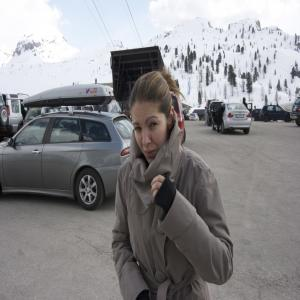Vehicle-registration-plate: (237, 116, 245, 120)
